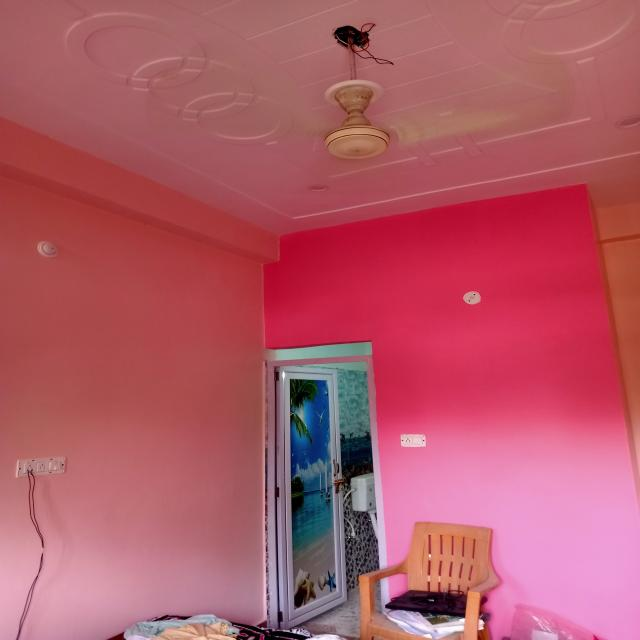Chair: (362, 520, 498, 640)
